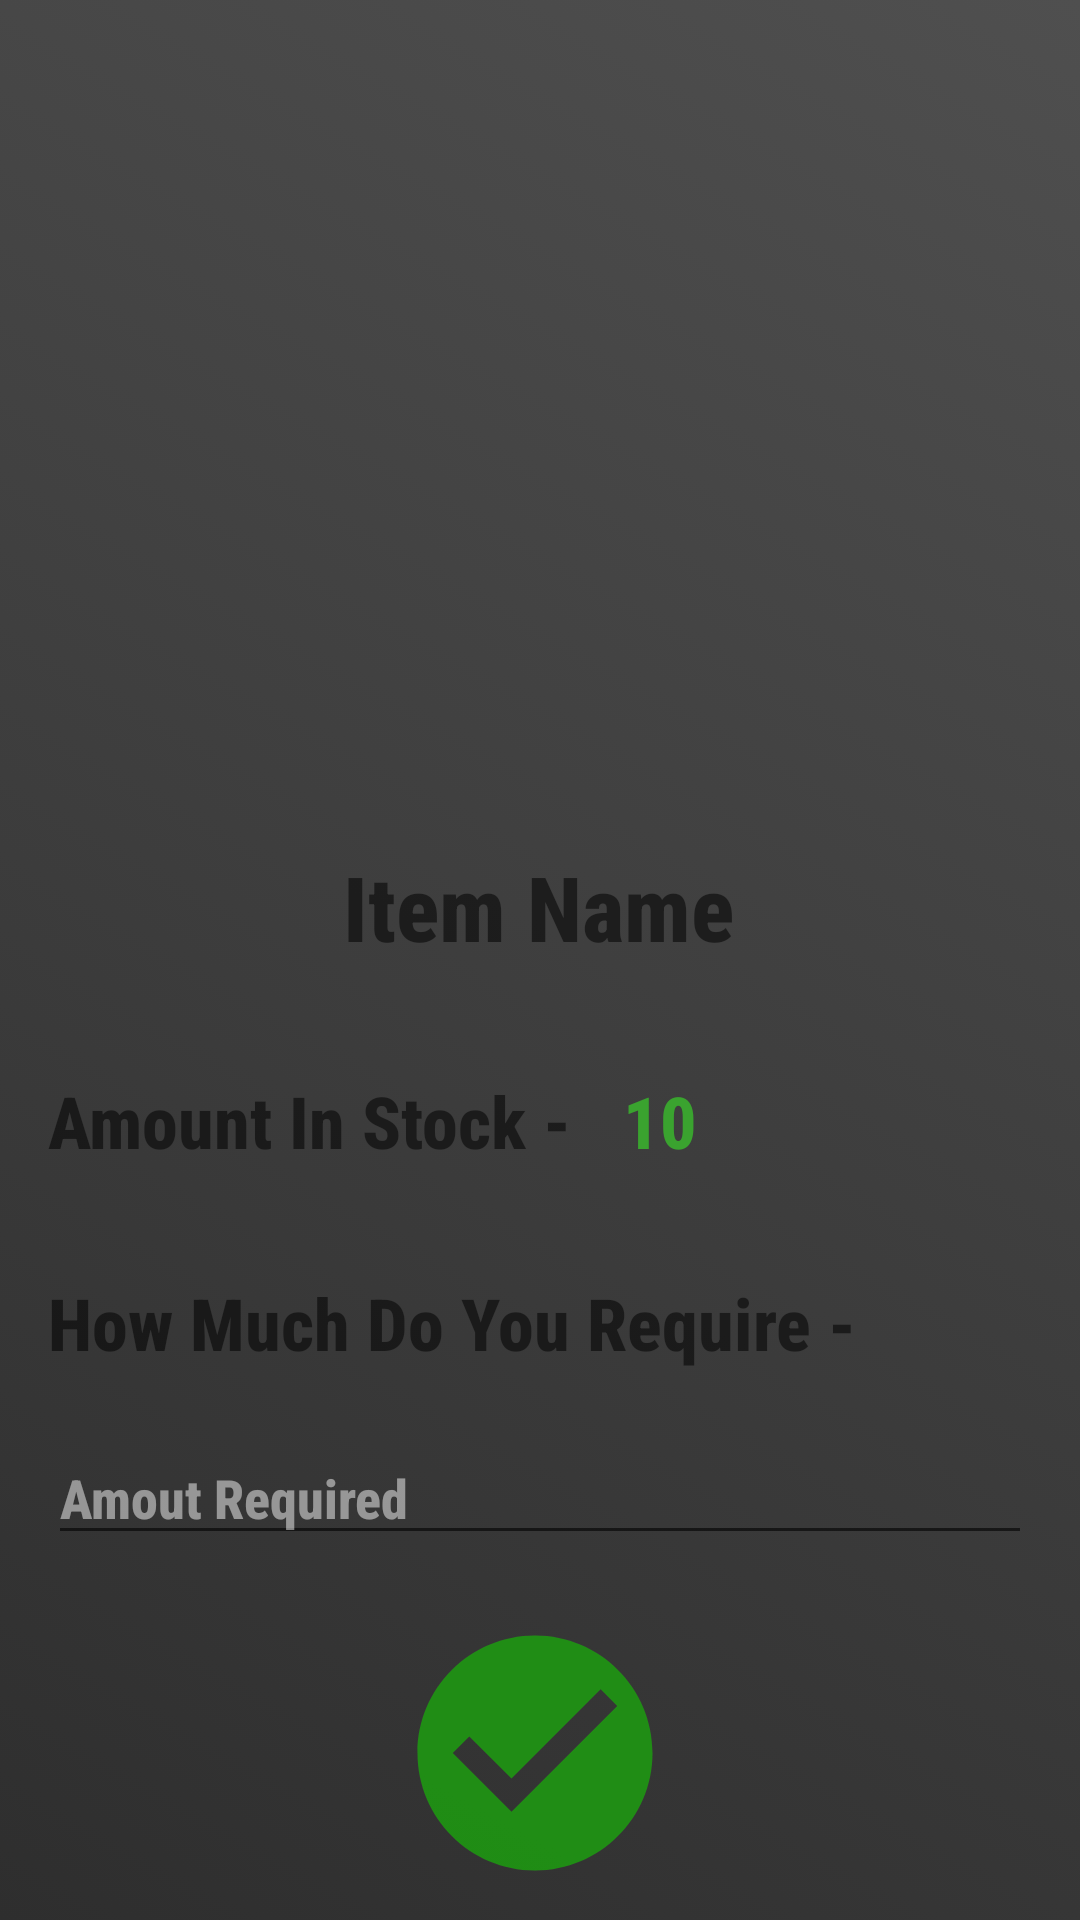

Named icons in this screenshot (1080×1920) and their bounding boxes, (x1, y1, x2, y2):
check circle: (417, 1635, 653, 1871)
